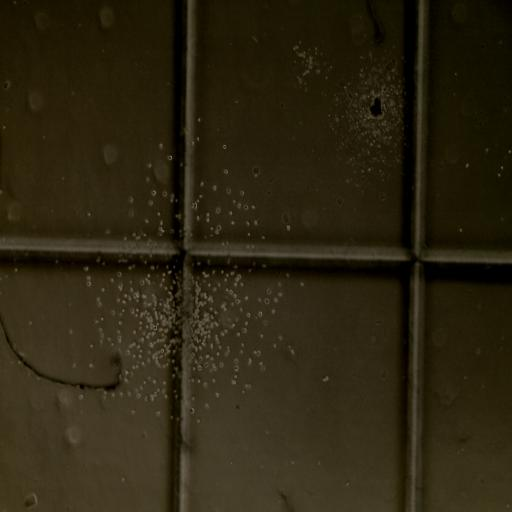CFU-GM: (79, 264, 180, 445), (330, 58, 404, 165)
